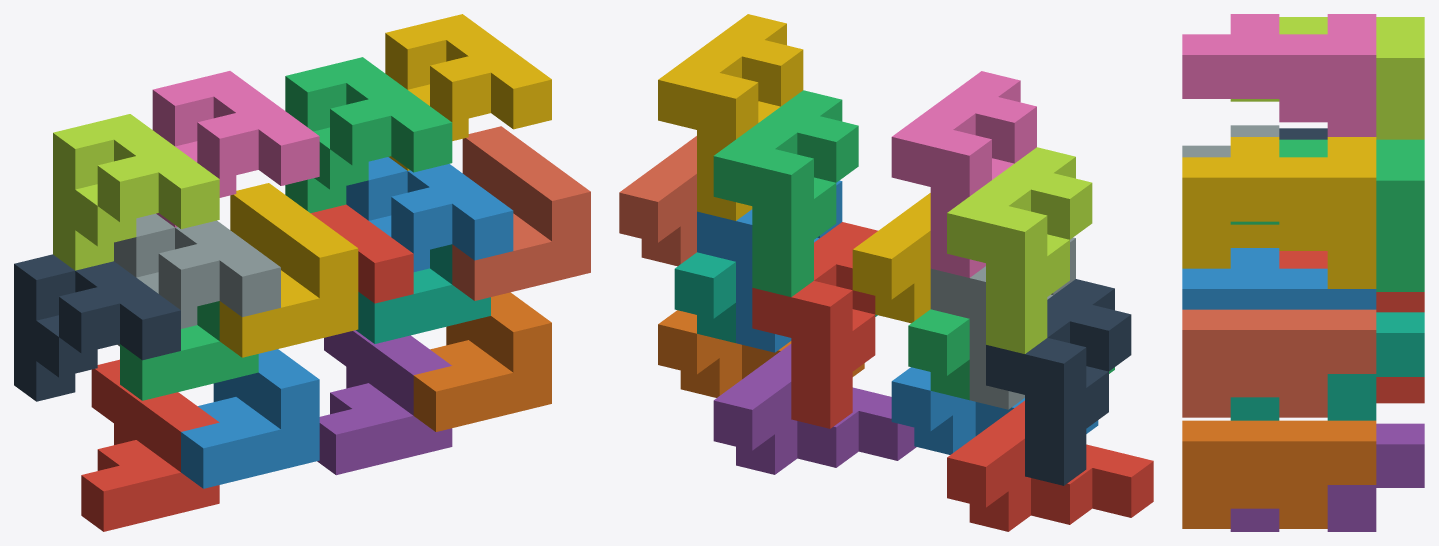
The model's file is tiling.obj.
3 renders of one model, left to right at view 1: azimuth 30°, elevation 25°; view 2: azimuth 150°, elevation 25°; view 3: azimuth 270°, elevation 25°, orthographic. The views are drawn at different scales.
Parts seen in each view (by area): view 1: copy_2_domain_3, copy_2_domain_1, copy_2_domain_7, copy_1_domain_4, copy_1_domain_8, copy_1_domain_1, copy_1_domain_2, copy_2_domain_4, copy_1_domain_6, copy_2_domain_8, copy_1_domain_5, copy_2_domain_6 (+4 smaller); view 2: copy_2_domain_7, copy_2_domain_3, copy_2_domain_1, copy_2_domain_4, copy_2_domain_8, copy_2_domain_5, copy_1_domain_1, copy_1_domain_5, copy_1_domain_4, copy_1_domain_8, copy_1_domain_2, copy_1_domain_6 (+4 smaller); view 3: copy_2_domain_8, copy_1_domain_6, copy_1_domain_8, copy_2_domain_4, copy_2_domain_7, copy_2_domain_6, copy_2_domain_3, copy_1_domain_7, copy_1_domain_5, copy_1_domain_4, copy_2_domain_5, copy_2_domain_2 (+1 smaller).
Part boxes in pixels (x1,y1,x2,y2): copy_2_domain_3: (53, 114, 219, 270); copy_2_domain_1: (14, 254, 180, 401); copy_2_domain_7: (285, 57, 452, 213); copy_1_domain_4: (219, 183, 358, 357); copy_1_domain_8: (452, 126, 590, 300); copy_1_domain_1: (81, 359, 219, 531); copy_1_domain_2: (181, 349, 319, 488); copy_2_domain_4: (152, 71, 319, 227); copy_1_domain_6: (413, 292, 551, 431); copy_2_domain_8: (385, 14, 551, 170); copy_1_domain_5: (317, 330, 452, 475); copy_2_domain_6: (346, 157, 513, 271); copy_2_domain_7: (713, 90, 858, 296); copy_2_domain_3: (947, 147, 1092, 353); copy_2_domain_1: (986, 279, 1131, 485); copy_2_domain_4: (891, 71, 1036, 277); copy_2_domain_8: (658, 14, 803, 220); copy_2_domain_5: (752, 222, 877, 428); copy_1_domain_1: (947, 400, 1153, 531); copy_1_domain_5: (713, 344, 916, 474); copy_1_domain_4: (852, 193, 930, 323); copy_1_domain_8: (619, 136, 696, 266); copy_1_domain_2: (891, 367, 1098, 454); copy_1_domain_6: (658, 310, 864, 397); copy_2_domain_8: (1182, 137, 1376, 288); copy_1_domain_6: (1182, 420, 1376, 528); copy_1_domain_8: (1182, 309, 1376, 417); copy_2_domain_4: (1182, 14, 1376, 136); copy_2_domain_7: (1230, 139, 1424, 291); copy_2_domain_6: (1182, 248, 1376, 309); copy_2_domain_3: (1230, 17, 1424, 139); copy_1_domain_7: (1230, 312, 1424, 420); copy_1_domain_5: (1230, 423, 1424, 531); copy_1_domain_4: (1182, 221, 1327, 268); copy_2_domain_5: (1279, 251, 1424, 403); copy_2_domain_2: (1182, 125, 1279, 157).
Bounding box in the file's own units: 12 × 9 × 5.
